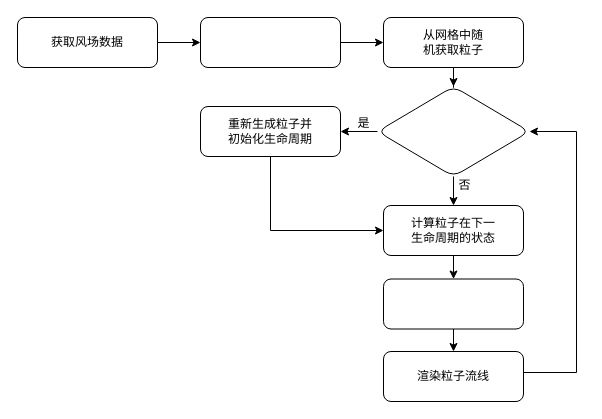
This 602x419 diagram has some shape labels left out. Each missing label, with the centre of its shape:
"构建风场网格" goes at point (270, 42).
"粒子生命周期结束或 粒子运动到风场网格外" goes at point (453, 131).
"计算粒子经纬度坐标" goes at point (453, 303).
